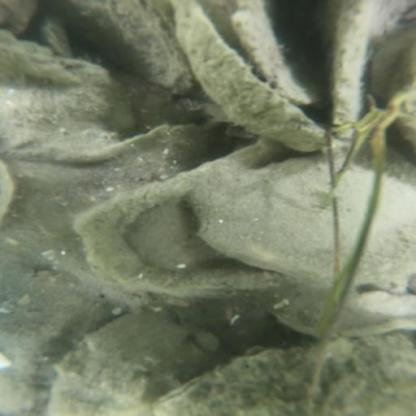3: (176, 0, 376, 154), (51, 1, 192, 90), (356, 284, 416, 315)
Oyster-Closed: (230, 1, 338, 108)
Oyster-Open: (186, 153, 416, 287), (154, 329, 413, 416), (31, 310, 205, 416), (2, 37, 128, 156)
